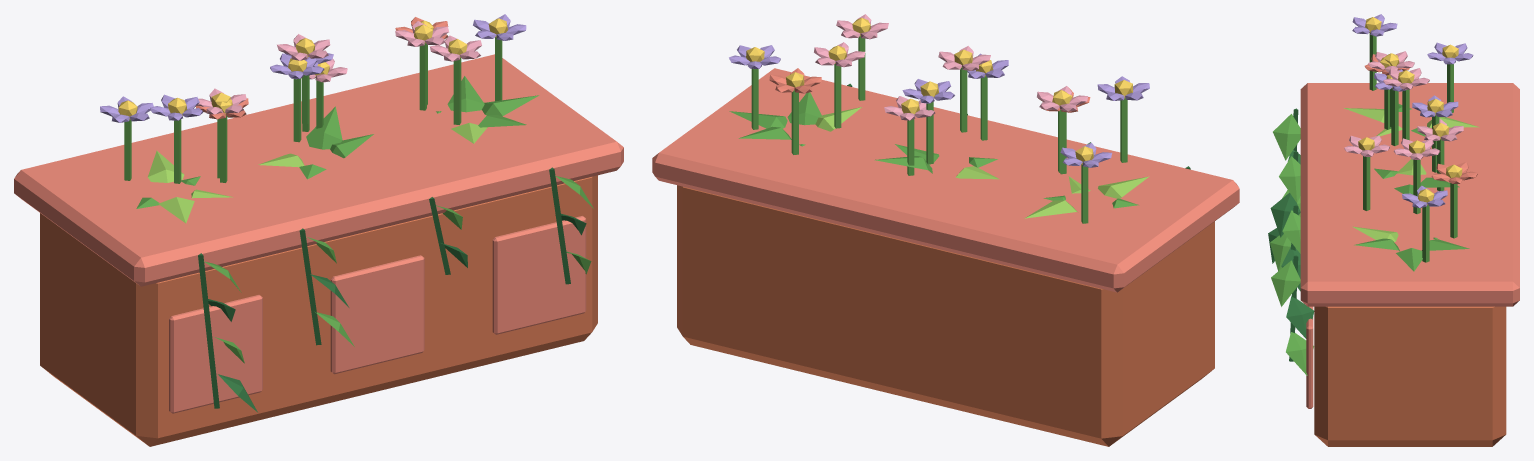
The model's file is flower_planter.glb.
The picture shows the model from 3 angles, left to right: view 1: azimuth 30°, elevation 25°; view 2: azimuth 150°, elevation 25°; view 3: azimuth 270°, elevation 25°; orthographic projection. The views are drawn at different scales.
Visible parts, largest first — view 1: Flower Planter; view 2: Flower Planter; view 3: Flower Planter.
Boxes of the visible parts, x1,y1,x2,y2 form: Flower Planter: (14, 14, 623, 446); Flower Planter: (652, 14, 1239, 446); Flower Planter: (1268, 14, 1519, 446).
Bounding box in the file's own units: 1.06 × 0.6753 × 0.5515.
Materials: 1 (1 with a texture image).
